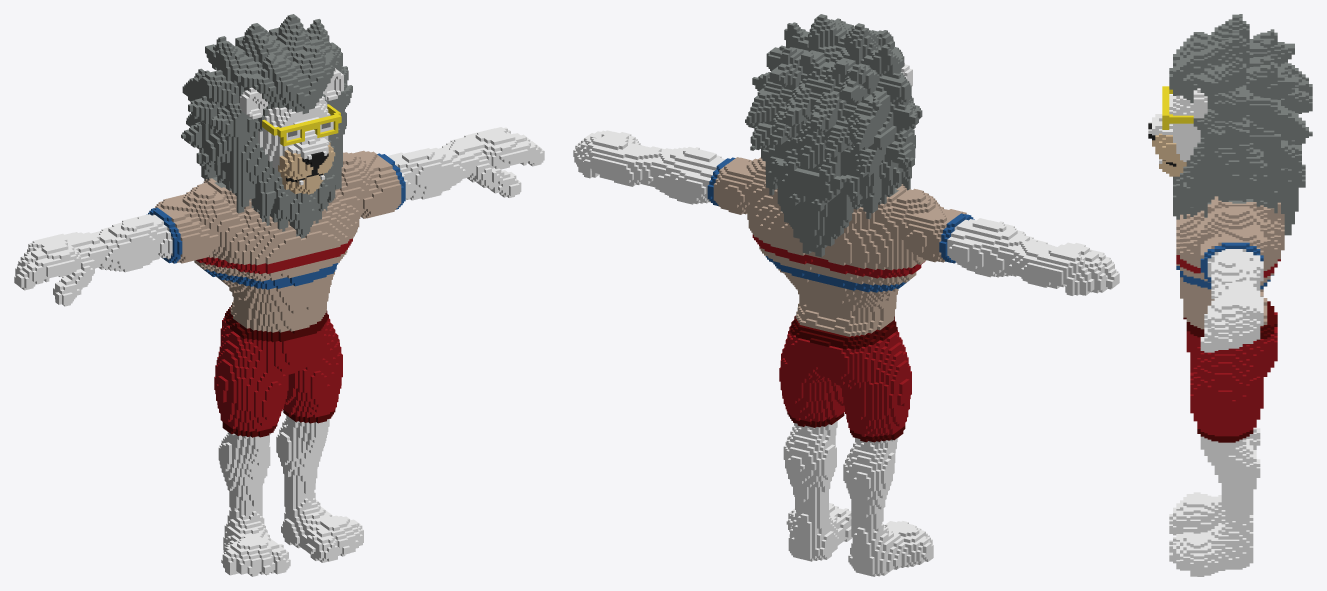
The model's file is 525-DPC95oIA.glb.
3 renders of one model, left to right at view 1: azimuth 30°, elevation 25°; view 2: azimuth 150°, elevation 25°; view 3: azimuth 270°, elevation 25°, orthographic. The views are drawn at different scales.
Parts seen in each view (by area): view 1: standard; view 2: standard; view 3: standard.
Part boxes in pixels (box(x1,y1,x2,y2)): standard: box(14, 14, 544, 576); standard: box(573, 14, 1119, 576); standard: box(1148, 14, 1312, 576).
Size of the model in its own units: 17.2 by 16.5 by 4.7.
Materials: 5 (5 with a texture image).
